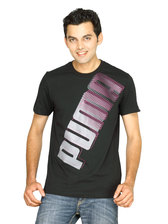clothoes: (34, 64, 141, 197)
